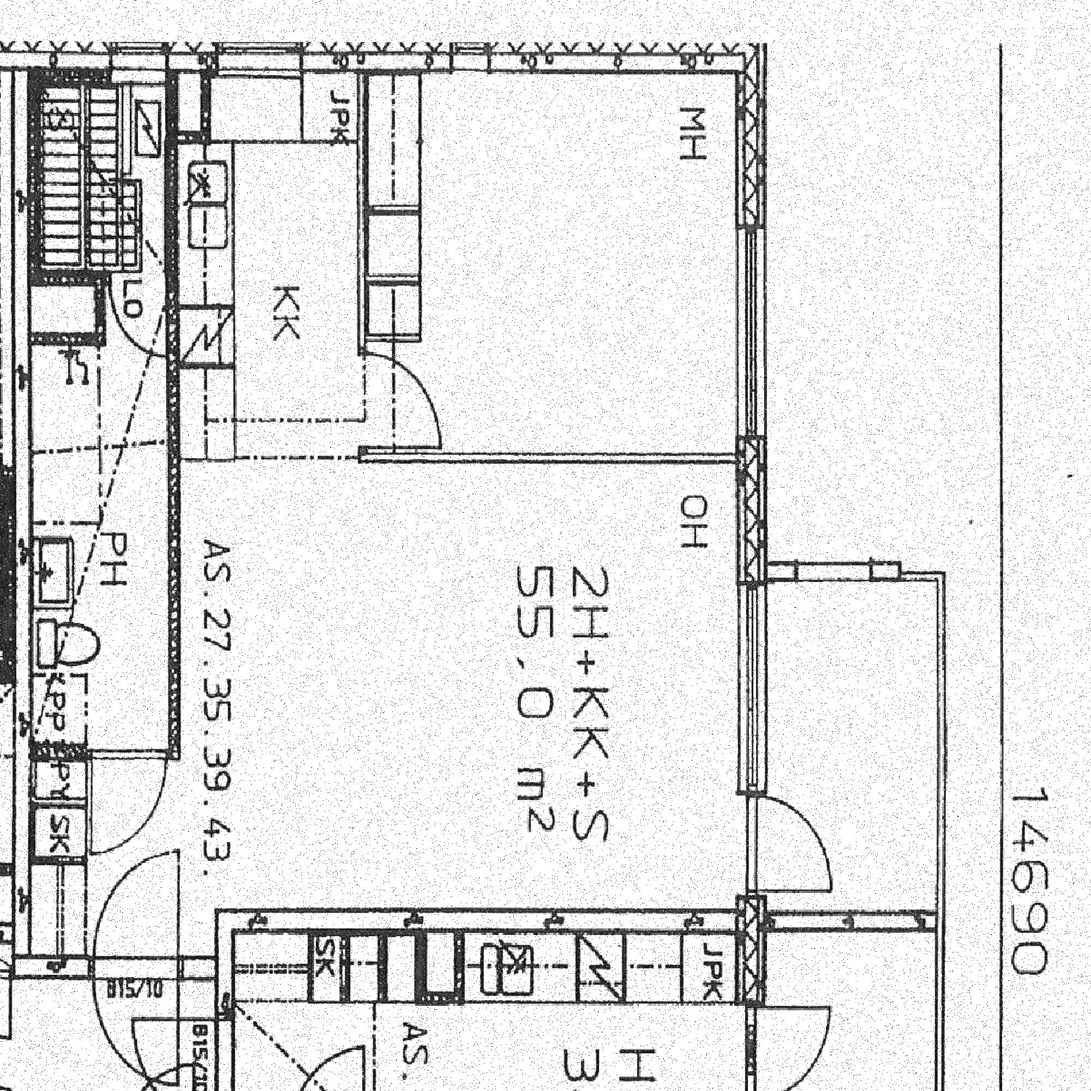wall: (737, 52, 765, 793), (216, 909, 765, 932), (167, 51, 766, 71), (14, 286, 31, 980), (168, 270, 181, 759), (14, 52, 41, 286), (14, 51, 167, 85), (14, 957, 235, 980), (358, 453, 766, 464), (31, 286, 105, 345), (738, 912, 937, 932), (165, 52, 181, 287), (359, 52, 368, 464), (14, 270, 181, 287), (180, 71, 211, 142), (14, 750, 181, 760), (216, 910, 234, 981), (738, 561, 798, 581), (747, 793, 757, 897), (737, 897, 765, 932), (871, 561, 900, 581)
